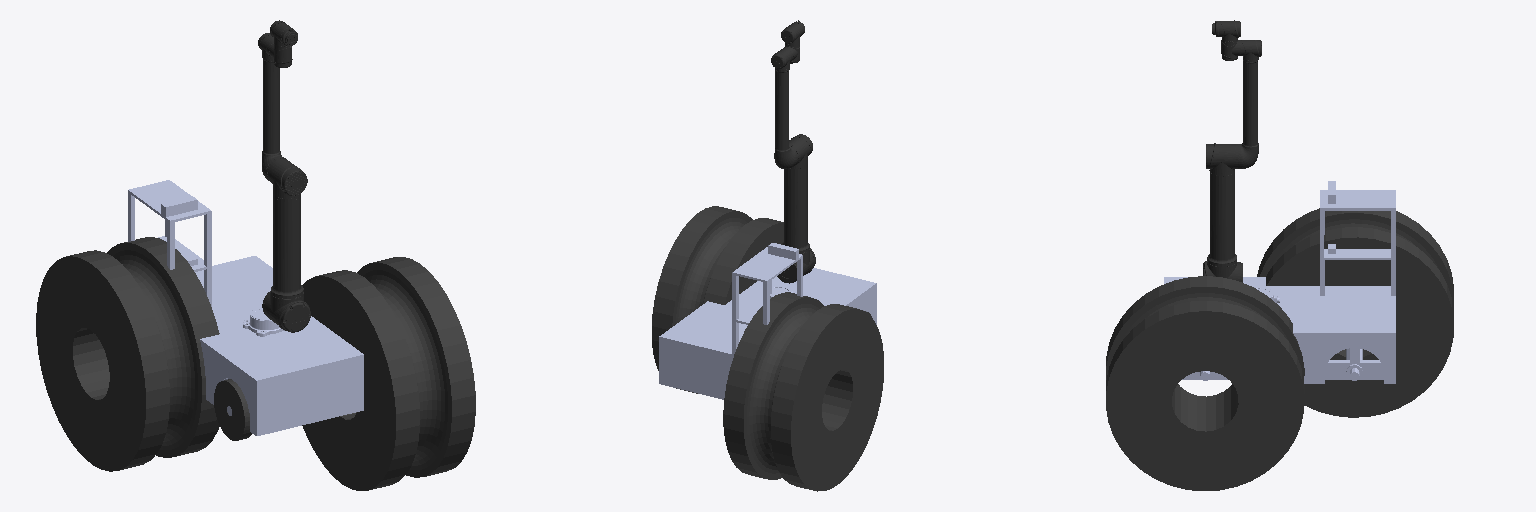
URDF robot description (robot):
<?xml version='1.0' encoding='utf-8'?>
<robot name="robot">  
  <link name="base_link">
    <inertial>
      <origin xyz="-7.22287839337554E-05 -0.00215295361631975 0.324863596005363" rpy="0 0 0" />
      <mass value="165.61036422321" />
      <inertia ixx="32.965361421801" ixy="-4.58943188877295E-10" ixz="-2.30197800542194E-10" iyy="12.6332666224088" iyz="-0.000847797837113684" izz="42.003560166963" />
    </inertial>
    <visual>
      <origin xyz="0 0 0" rpy="0 0 0" />
      <geometry>
        <mesh filename="package://robot_description/meshes/base_link.STL" />
      </geometry>
      <material name="">
        <color rgba="0.792156862745098 0.819607843137255 0.933333333333333 1" />
      </material>
    </visual>
    <collision>
      <origin xyz="0 0 0" rpy="0 0 0" />
      <geometry>
        <mesh filename="package://robot_description/meshes/base_link.STL" />
      </geometry>
    </collision>
  </link>

  <joint name="j1" type="revolute">
    <origin xyz="-0.005 -0.126 0.536" rpy="0 0 1.5708" />
    <parent link="base_link" />
    <child link="link1" />
    <axis xyz="0 0 1" />
    <limit lower="-2.9670597" upper="2.9670597" effort="100" velocity="1.62" />
  </joint>
  <joint name="j2" type="revolute">
    <origin xyz="-0.126 0 0.094" rpy="3.14159265358979 1.5707963267949 0" /> 
    <parent link="link1" />
    <child link="link2" />
    <axis xyz="0 0 1" />
    <limit lower="-2.9670597" upper="2.9670597" effort="100" velocity="3.10" />
  </joint>
  <joint name="j3" type="revolute">
    <origin xyz="-0.803 0 0.011" rpy="3.14159265358979 0 0" />
    <parent link="link2" />
    <child link="link3" />
    <axis xyz="0 0 1" />
    <limit lower="-2.9670597" upper="2.9670597" effort="100" velocity="3.10" />
  </joint>
  <joint name="j4" type="revolute">
    <origin xyz="-0.72 0 0.0298" rpy="3.1416 0 0" />
    <parent link="link3" />
    <child link="link4" />
    <axis xyz="0 0 -1" />
    <limit lower="-2.9670597" upper="2.9670597" effort="100" velocity="3.10" />
  </joint>
  <joint name="j5" type="revolute">
    <origin xyz="-0.0577 0 0.0698" rpy="0 -1.5708 0" /> 
    <parent link="link4" />
    <child link="link5" />
    <axis xyz="0 0 -1" />
    <limit lower="-2.9670597" upper="2.9670597" effort="100" velocity="3.10" />
  </joint>
  <joint name="j6" type="revolute">
    <origin xyz="0.0577 0 0.06955" rpy="0 1.5708 0" /> 
    <parent link="link5" />
    <child link="link6" />
    <axis xyz="0 0 1" />
    <limit lower="-2.9670597" upper="2.9670597" effort="100" velocity="1.62" />
  </joint>
  
    
      
  


  <link name="wl1">
    <inertial>
      <origin xyz="0.0290880456704233 0 0" rpy="0 0 0" />
      <mass value="5.35162830148466" />
      <inertia ixx="0.0785771556064541" ixy="2.06571371557815E-35" ixz="5.7477857248605E-35" iyy="0.040993158685314" iyz="3.00703442581003E-34" izz="0.040993158685314" />
    </inertial>
    <visual>
      <origin xyz="0 0 0" rpy="0 0 0" />
      <geometry>
        <mesh filename="package://robot_description/meshes/wl1.STL" />
      </geometry>
      <material name="">
        <color rgba="0.3 0.3 0.3 1" />
      </material>
    </visual>
    <collision>
      <origin xyz="0 0 0" rpy="0 0 0" />
      <geometry>
        <mesh filename="package://robot_description/meshes/wl1.STL" />
      </geometry>
    </collision>
  </link>
  <joint name="wl1" type="continuous">
    <origin xyz="-0.425 0.45 0.169" rpy="0 0 0" />
    <parent link="base_link" />
    <child link="wl1" />
    <axis xyz="-1 0 0" />
  </joint>
  <link name="wr1">
    <inertial>
      <origin xyz="-0.0290880456704234 0 0" rpy="0 0 0" />
      <mass value="5.35162830148466" />
      <inertia ixx="0.0785771556064541" ixy="-4.77943611846627E-35" ixz="5.7477857248605E-35" iyy="0.040993158685314" iyz="-3.00703442581003E-34" izz="0.040993158685314" />
    </inertial>
    <visual>
      <origin xyz="0 0 0" rpy="0 0 0" />
      <geometry>
        <mesh filename="package://robot_description/meshes/wr1.STL" />
      </geometry>
      <material name="">
        <color rgba="0.3 0.3 0.3 1" />
      </material>
    </visual>
    <collision>
      <origin xyz="0 0 0" rpy="0 0 0" />
      <geometry>
        <mesh filename="package://robot_description/meshes/wr1.STL" />
      </geometry>
    </collision>
  </link>
  <joint name="wr1" type="continuous">
    <origin xyz="0.425 0.45 0.169" rpy="0 0 0" />
    <parent link="base_link" />
    <child link="wr1" />
    <axis xyz="-1 0 0" />
  </joint>
  <link name="wl2">
    <inertial>
      <origin xyz="0.0290880456704233 5.55111512312578E-17 0" rpy="0 0 0" />
      <mass value="5.35162830148466" />
      <inertia ixx="0.0785771556064541" ixy="2.06571371557815E-35" ixz="5.7477857248605E-35" iyy="0.040993158685314" iyz="3.00703442581003E-34" izz="0.040993158685314" />
    </inertial>
    <visual>
      <origin xyz="0 0 0" rpy="0 0 0" />
      <geometry>
        <mesh filename="package://robot_description/meshes/wl2.STL" />
      </geometry>
      <material name="">
        <color rgba="0.3 0.3 0.3 1" />
      </material>
    </visual>
    <collision>
      <origin xyz="0 0 0" rpy="0 0 0" />
      <geometry>
        <mesh filename="package://robot_description/meshes/wl2.STL" />
      </geometry>
    </collision>
  </link>
  <joint name="wl2" type="continuous">
    <origin xyz="-0.425 -0.45 0.169" rpy="0 0 0" />
    <parent link="base_link" />
    <child link="wl2" />
    <axis xyz="-1 0 0" />
  </joint>
  <link name="wr2">
    <inertial>
      <origin xyz="-0.0290880456704234 5.55111512312578E-17 0" rpy="0 0 0" />
      <mass value="5.35162830148466" />
      <inertia ixx="0.0785771556064541" ixy="-4.77943611846627E-35" ixz="5.7477857248605E-35" iyy="0.040993158685314" iyz="-3.00703442581003E-34" izz="0.040993158685314" />
    </inertial>
    <visual>
      <origin xyz="0 0 0" rpy="0 0 0" />
      <geometry>
        <mesh filename="package://robot_description/meshes/wr2.STL" />
      </geometry>
      <material name="">
        <color rgba="0.3 0.3 0.3 1" />
      </material>
    </visual>
    <collision>
      <origin xyz="0 0 0" rpy="0 0 0" />
      <geometry>
        <mesh filename="package://robot_description/meshes/wr2.STL" />
      </geometry>
    </collision>
  </link>
  <joint name="wr2" type="continuous">
    <origin xyz="0.425 -0.45 0.169" rpy="0 0 0" />
    <parent link="base_link" />
    <child link="wr2" />
    <axis xyz="-1 0 0" />
  </joint>
  
  <link name="link1">
    <inertial>
      <origin xyz="-0.00794920674955624 -1.78415172156048E-05 0.0962050288057547" rpy="0 0 0" />
      <mass value="6.3997963235939" />
      <inertia ixx="0.0386968105399522" ixy="3.18422119967618E-06" ixz="0.000278068450970961" iyy="0.0403824669357166" iyz="1.29129590060104E-05" izz="0.0302124483192918" />
    </inertial>
    <visual>
      <origin xyz="0 0 0" rpy="0 0 0" />
      <geometry>
        <mesh filename="package://robot_description/meshes/link1.STL" />
      </geometry>
      <material name="">
        <color rgba="0.250980392156863 0.250980392156863 0.250980392156863 1" />
      </material>
    </visual>
    <collision>
      <origin xyz="0 0 0" rpy="0 0 0" />
      <geometry>
        <mesh filename="package://robot_description/meshes/link1.STL" />
      </geometry>
    </collision>
  </link> 
  
  <link name="link2">
    <inertial>
      <origin xyz="-0.356587738253141 -5.20041231720329E-06 0.0932252364057431" rpy="0 0 0" />
      <mass value="22.2940088807678" />
      <inertia ixx="0.0974900452024959" ixy="3.08604301056751E-06" ixz="0.000327194536900443" iyy="0.455754558388555" iyz="1.35730362482013E-05" izz="0.434619057566455" />
    </inertial>
    <visual>
      <origin xyz="0 0 0" rpy="0 0 0" />
      <geometry>
        <mesh filename="package://robot_description/meshes/link2.STL" />
      </geometry>
      <material name="">
        <color rgba="0.250980392156863 0.250980392156863 0.250980392156863 1" />
      </material>
    </visual>
    <collision>
      <origin xyz="0 0 0" rpy="0 0 0" />
      <geometry>
        <mesh filename="package://robot_description/meshes/link2.STL" />
      </geometry>
    </collision>
  </link>

  <link name="link3">
    <inertial>
      <origin xyz="-0.348727151721816 0.000170002642110669 0.0825873081787098" rpy="0 0 0" />
      <mass value="6.4895258475879" />
      <inertia ixx="0.0096756766183381" ixy="-0.00026633857380855" ixz="0.00703002672413942" iyy="0.258252972810647" iyz="1.22132940178923E-05" izz="0.257392693068882" />
    </inertial>
    <visual>
      <origin xyz="0 0 0" rpy="0 0 0" />
      <geometry>
        <mesh filename="package://robot_description/meshes/link3.STL" />
      </geometry>
      <material name="">
        <color rgba="0.250980392156863 0.250980392156863 0.250980392156863 1" />
      </material>
    </visual>
    <collision>
      <origin xyz="0 0 0" rpy="0 0 0" />
      <geometry>
        <mesh filename="package://robot_description/meshes/link3.STL" />
      </geometry>
    </collision>
  </link>
  
  <link name="link4">
    <inertial>
      <origin xyz="-0.00242458280433411 -5.44321046245903E-07 0.0661378515123138" rpy="0 0 0" />
      <mass value="1.17082580161785" />
      <inertia ixx="0.00159368211297859" ixy="3.14179162607069E-08" ixz="2.49063735370219E-05" iyy="0.00261811685549299" iyz="-1.56654011954233E-08" izz="0.00252852694287355" />
    </inertial>
    <visual>
      <origin xyz="0 0 0" rpy="0 0 0" />
      <geometry>
        <mesh filename="package://robot_description/meshes/link4.STL" />
      </geometry>
      <material name="">
        <color rgba="0.250980392156863 0.250980392156863 0.250980392156863 1" />
      </material>
    </visual>
    <collision>
      <origin xyz="0 0 0" rpy="0 0 0" />
      <geometry>
        <mesh filename="package://robot_description/meshes/link4.STL" />
      </geometry>
    </collision>
  </link>
  
  <link name="link5">
    <inertial>
      <origin xyz="0.00242458409241891 5.44635340153643E-07 0.0656378507065249" rpy="0 0 0" />
      <mass value="1.17082576064318" />
      <inertia ixx="0.00159368204736647" ixy="3.14422586641897E-08" ixz="-2.49064085094777E-05" iyy="0.00261811675462377" iyz="1.56549712758359E-08" izz="0.00252852684795983" />
    </inertial>
    <visual>
      <origin xyz="0 0 0" rpy="0 0 0" />
      <geometry>
        <mesh filename="package://robot_description/meshes/link5.STL" />
      </geometry>
      <material name="">
        <color rgba="0.250980392156863 0.250980392156863 0.250980392156863 1" />
      </material>
    </visual>
    <collision>
      <origin xyz="0 0 0" rpy="0 0 0" />
      <geometry>
        <mesh filename="package://robot_description/meshes/link5.STL" />
      </geometry>
    </collision>
  </link>
  
  <link name="link6">
    <inertial>
      <origin xyz="0.000135655130766299 -8.37139877037096E-09 0.0281910703710159" rpy="0 0 0" />
      <mass value="0.166085108652433" />
      <inertia ixx="9.48731067402748E-05" ixy="-5.77777351325843E-11" ixz="4.38703666212798E-07" iyy="9.13908413524008E-05" iyz="2.03433472099079E-13" izz="0.00015901210576961" />
    </inertial>
    <visual>
      <origin xyz="0 0 0" rpy="0 0 0" />
      <geometry>
        <mesh filename="package://robot_description/meshes/link6.STL" />
      </geometry>
      <material name="">
        <color rgba="0.250980392156863 0.250980392156863 0.250980392156863 1" />
      </material>
    </visual>
    <collision>
      <origin xyz="0 0 0" rpy="0 0 0" />
      <geometry>
        <mesh filename="package://robot_description/meshes/link6.STL" />
      </geometry>
    </collision>
  </link>
  
  <link name="f1">
    <inertial>
      <origin xyz="-0.448165889386651 -0.275148051459907 0.785192171007059" rpy="0 0 0" />
      <mass value="6.48280472708925" />
      <inertia ixx="0.259086426049895" ixy="0.00403011710090608" ixz="-0.0153284657643075" iyy="0.382736373204116" iyz="0.00302824380532944" izz="0.223941382712416" />
    </inertial>
    <visual>
      <origin xyz="0 0 0" rpy="0 0 0" />
      <geometry>
        <mesh filename="package://robot_description/meshes/f1.STL" />
      </geometry>
      <material name="">
        <color rgba="0.792156862745098 0.819607843137255 0.933333333333333 1" />
      </material>
    </visual>
    <collision>
       
      <origin xyz="-0.45 -0.275148051459907 0.7" rpy="0 0 0" />
      <geometry> 
        <box size="0.44 0.26 0.6" />
      </geometry>
    </collision>
  </link>
  <joint name="f1" type="fixed">
    <origin xyz="0.00057481 6.9036E-05 0.041028" rpy="0 0 -1.5708" />
    <parent link="base_link" />
    <child link="f1" />
    <axis xyz="0 0 0" />
  </joint>
  <joint name="joint_grasp" type="fixed">
    <parent link="link6" />
    <child link="grasp_base_link" />
    <origin rpy="-1.5708 0 -1.5708" xyz="0 0 0.04877" />
  </joint>

  <link name="grasp_base_link">
  </link>

  <joint name="joint_tool0" type="fixed">
    <parent link="grasp_base_link" />
    <child link="tool0" />
    <origin rpy="0 0 0" xyz="0 -0.02 0" />
  </joint>

  <link name="tool0">
  </link>

  
</robot>

--- Facts derived from the render (not from the file) ---
3 views of the same robot in one strip: view 1: azimuth 30°, elevation 25°; view 2: azimuth 150°, elevation 25°; view 3: azimuth 270°, elevation 25° (orthographic).
Robot: robot — 14 links, 13 joints (6 revolute, 4 continuous, 3 fixed); root link base_link; default pose: every joint at zero.
Visible links, largest first — view 1: wl1, wr2, base_link, link2, f1, link3, wl2; view 2: wl1, wr2, base_link, link2, f1, link3; view 3: wr2, wl1, base_link, link2, f1, link3.
Link boxes in pixels (x1=…): wl1: x1=36, y1=237, x2=219, y2=471; wr2: x1=302, y1=257, x2=475, y2=490; base_link: x1=195, y1=256, x2=363, y2=435; link2: x1=262, y1=157, x2=310, y2=332; f1: x1=128, y1=180, x2=211, y2=306; link3: x1=258, y1=33, x2=283, y2=180; wl2: x1=214, y1=379, x2=251, y2=440; wl1: x1=723, y1=292, x2=883, y2=491; wr2: x1=652, y1=206, x2=783, y2=393; base_link: x1=659, y1=268, x2=876, y2=399; link2: x1=777, y1=134, x2=815, y2=283; f1: x1=732, y1=243, x2=802, y2=354; link3: x1=771, y1=47, x2=797, y2=168; wr2: x1=1106, y1=276, x2=1304, y2=490; wl1: x1=1257, y1=208, x2=1453, y2=417; base_link: x1=1164, y1=277, x2=1395, y2=383; link2: x1=1203, y1=143, x2=1242, y2=282; f1: x1=1320, y1=181, x2=1395, y2=295; link3: x1=1239, y1=40, x2=1261, y2=168.
Size in the robot's own frame: 1.55 by 2.1 by 2.76 metres.
10 mesh visuals loaded from 12 distinct referenced files (10 binary STL); not drawn: 2 (reference not matched to a file when rendering).
